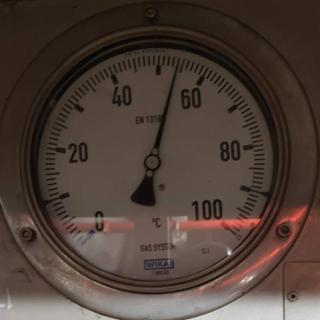gauge: (19, 27, 300, 303), (72, 211, 112, 253), (207, 206, 243, 242), (143, 153, 161, 171), (172, 54, 184, 70)
